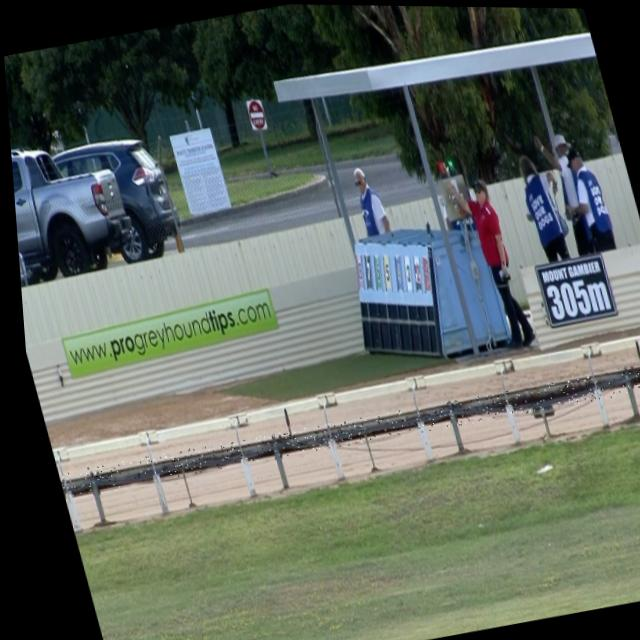rail: (54, 365, 640, 497)
